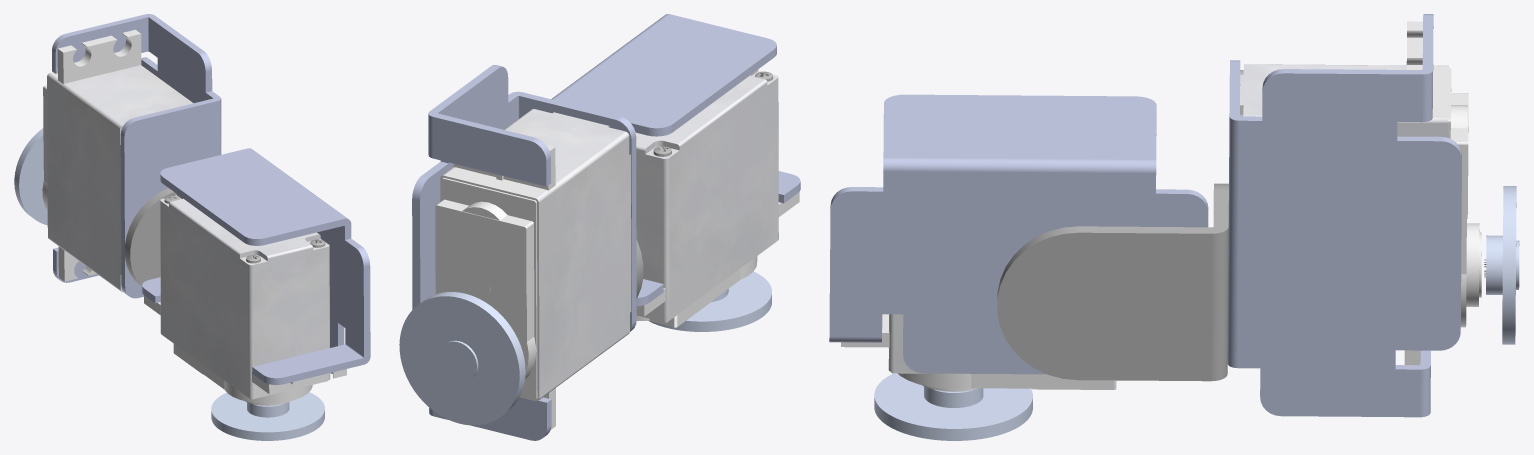
File: elbow.dae
3 views of the same model, side by side, from view 1: azimuth 30°, elevation 25°; view 2: azimuth 150°, elevation 25°; view 3: azimuth 270°, elevation 25° (orthographic). The views are drawn at different scales.
Parts seen in each view (by area): view 1: Actor0; view 2: Actor0; view 3: Actor0.
Boxes of the visible parts, x1=… form: Actor0: x1=14, y1=14, x2=370, y2=440; Actor0: x1=399, y1=14, x2=800, y2=440; Actor0: x1=829, y1=14, x2=1519, y2=440.
Size of the model in its own units: 0.0294 by 0.0625 by 0.1043.
Materials: 7 (2 with a texture image).
